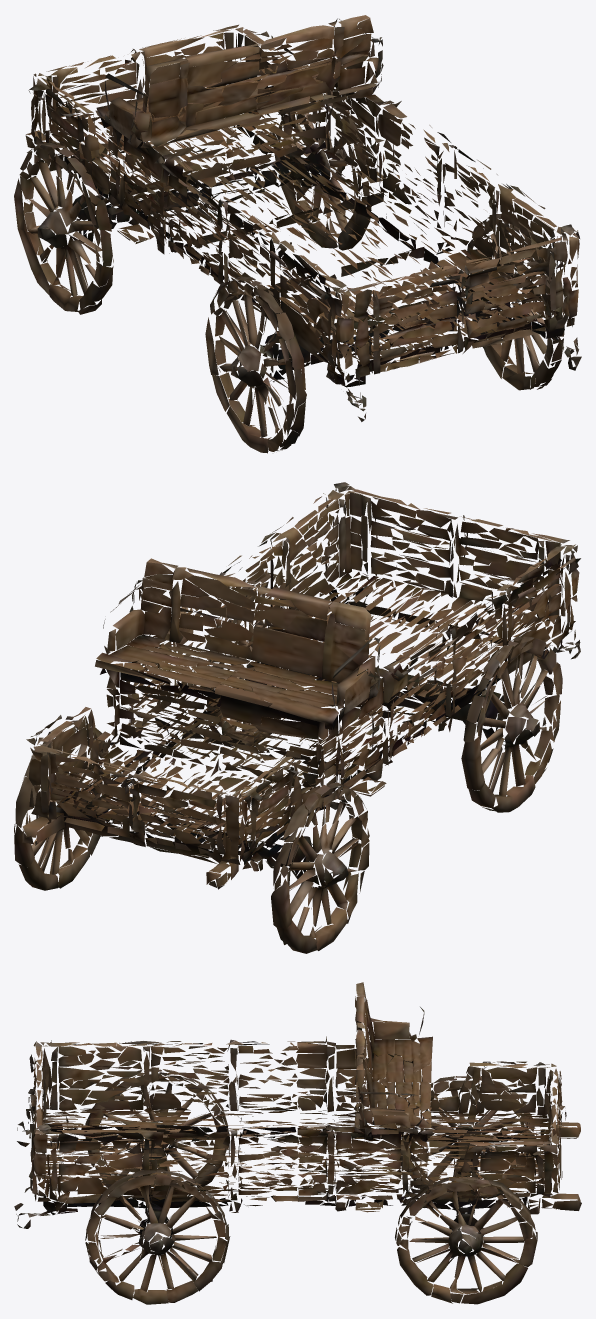
Rendered from carro.glb.
3 renders of one model, top to bottom at view 1: azimuth 30°, elevation 25°; view 2: azimuth 150°, elevation 25°; view 3: azimuth 270°, elevation 25°, orthographic. The views are drawn at different scales.
Parts seen in each view (by area): view 1: tripo_node_eb5f42a4-7b24-4b21-898c-2da23e59a482; view 2: tripo_node_eb5f42a4-7b24-4b21-898c-2da23e59a482; view 3: tripo_node_eb5f42a4-7b24-4b21-898c-2da23e59a482.
Part boxes in pixels (<box>): tripo_node_eb5f42a4-7b24-4b21-898c-2da23e59a482: <box>14,15,581,453</box>; tripo_node_eb5f42a4-7b24-4b21-898c-2da23e59a482: <box>14,482,580,953</box>; tripo_node_eb5f42a4-7b24-4b21-898c-2da23e59a482: <box>14,982,581,1304</box>.
Bounding box in the file's own units: 0.4928 × 0.4344 × 0.9815.
1 material, 1 textured.
